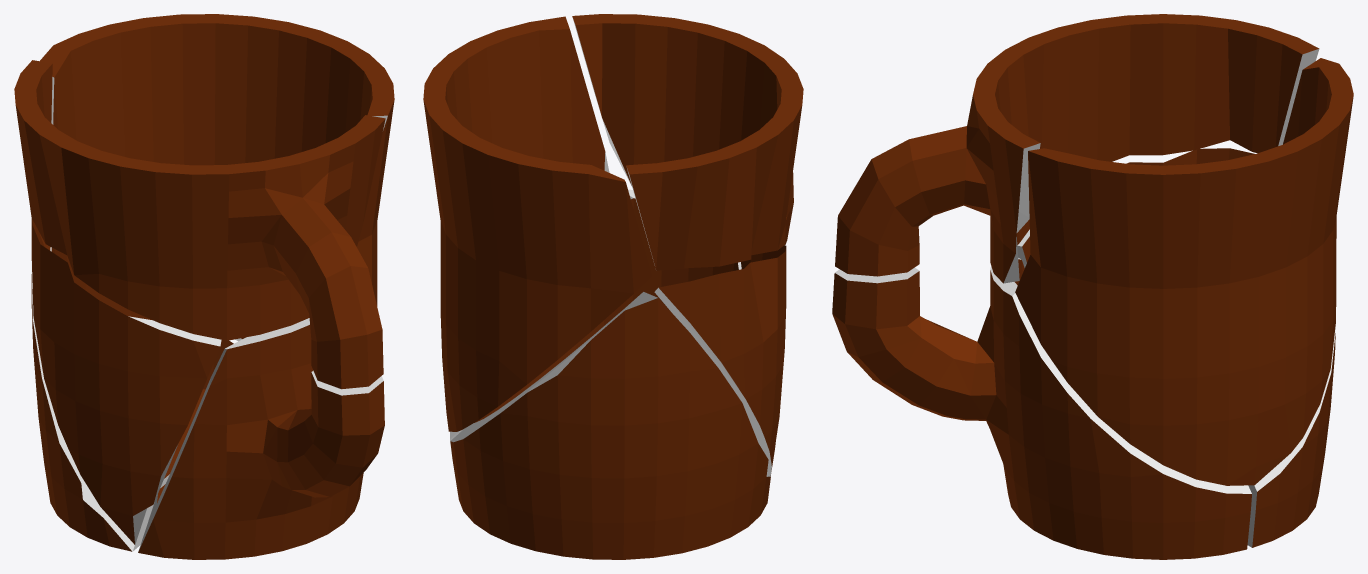
Rendered from BrokenMug.fbx.
The picture shows the model from 3 angles, left to right: view 1: azimuth 30°, elevation 25°; view 2: azimuth 150°, elevation 25°; view 3: azimuth 270°, elevation 25°; orthographic projection.
Parts seen in each view (by area): view 1: Mug_cell.002, Mug_cell.003, Mug_cell.001, Mug_cell, Mug_cell.004; view 2: Mug_cell.003, Mug_cell.004, Mug_cell.002, Mug_cell, Mug_cell.001; view 3: Mug_cell.003, Mug_cell.002, Mug_cell.001, Mug_cell.004, Mug_cell.
Part boxes in pixels (left/top/right/bottom): Mug_cell.002: left=14, top=60, right=385, bottom=389; Mug_cell.003: left=40, top=14, right=394, bottom=341; Mug_cell.001: left=138, top=318, right=384, bottom=559; Mug_cell: left=31, top=218, right=221, bottom=544; Mug_cell.004: left=31, top=247, right=233, bottom=551; Mug_cell.003: left=423, top=16, right=652, bottom=431; Mug_cell.004: left=450, top=292, right=770, bottom=559; Mug_cell.002: left=572, top=14, right=803, bottom=270; Mug_cell: left=654, top=245, right=786, bottom=475; Mug_cell.001: left=450, top=172, right=793, bottom=459; Mug_cell.003: left=1015, top=58, right=1353, bottom=485; Mug_cell.002: left=835, top=14, right=1319, bottom=283; Mug_cell.001: left=832, top=258, right=1251, bottom=559; Mug_cell.004: left=1247, top=327, right=1335, bottom=547; Mug_cell: left=1017, top=148, right=1254, bottom=267.
Size of the model in its own units: 0.1096 by 0.127 by 0.1502.
